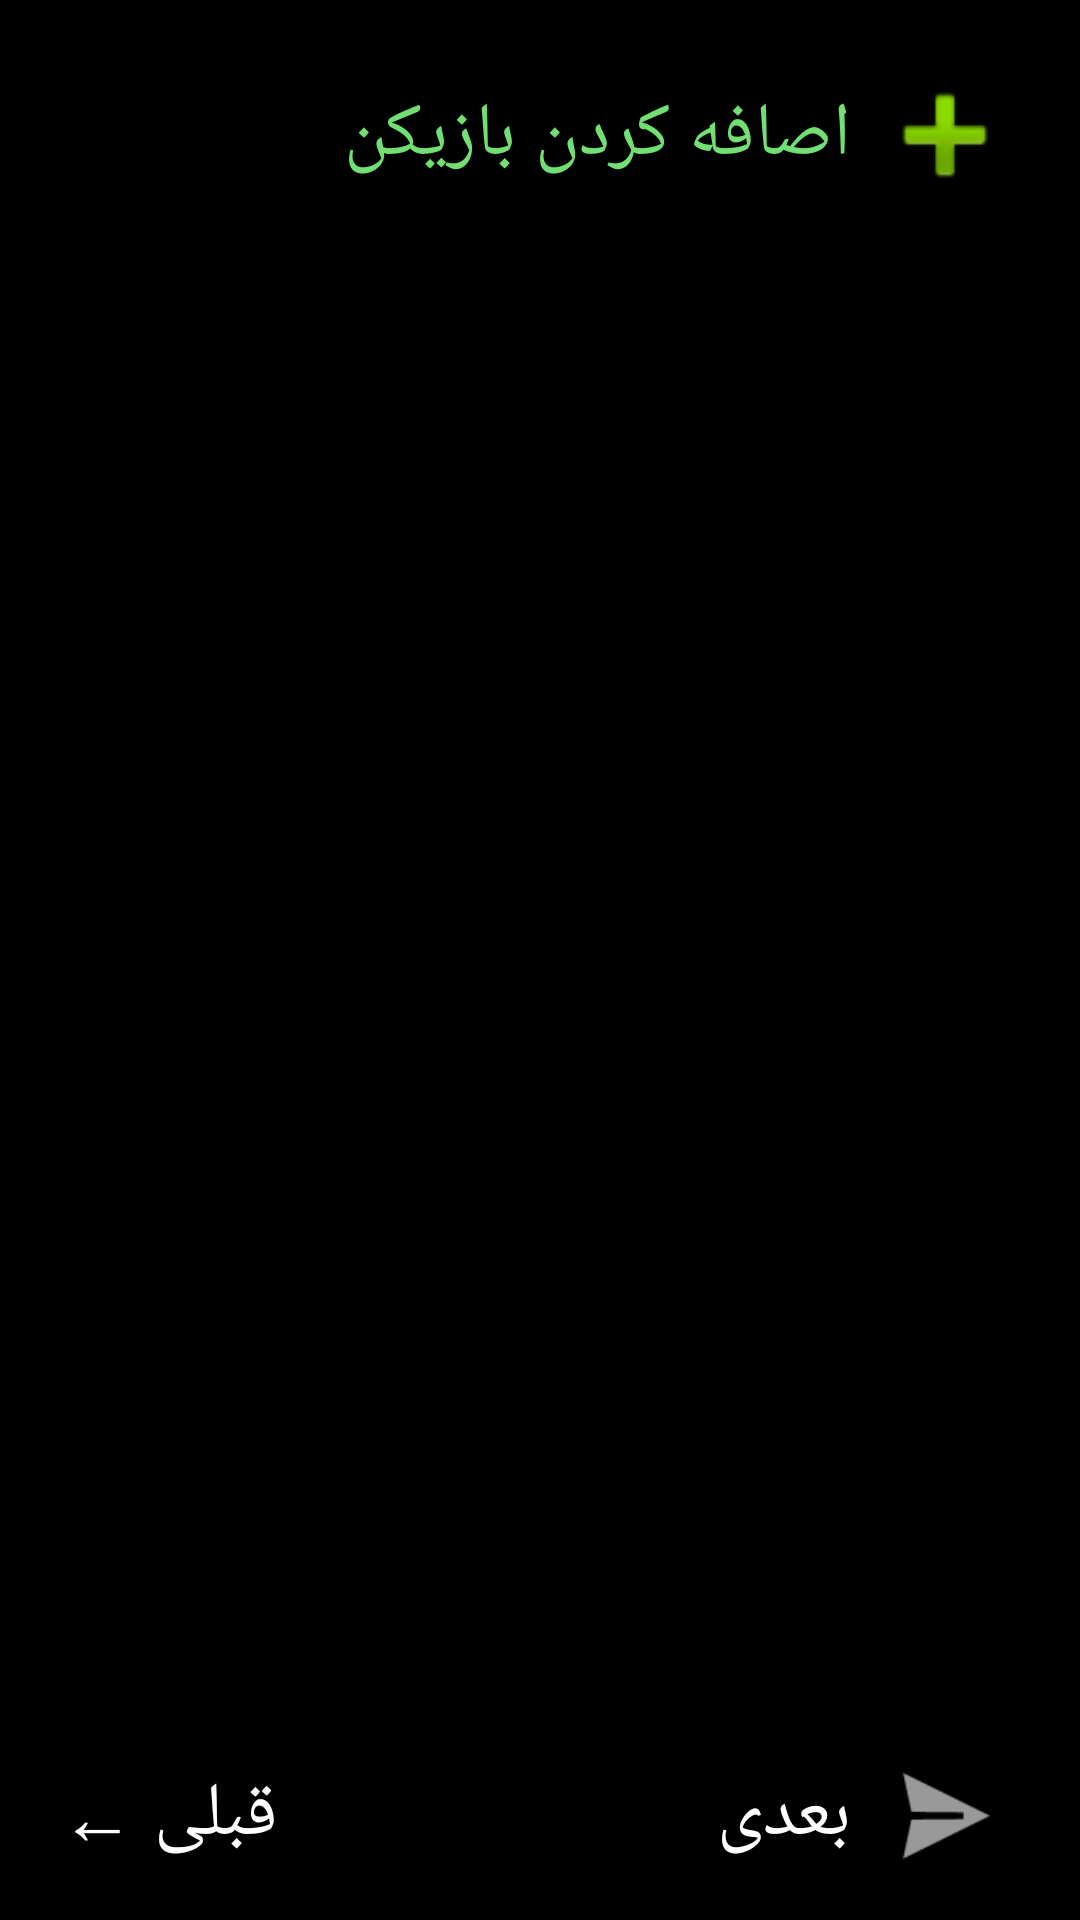

Where icons sit on this 1080w x 1920h app screen, as (x1, y1, x2, y2):
add: (902, 93, 988, 177)
send: (903, 1773, 990, 1859)
